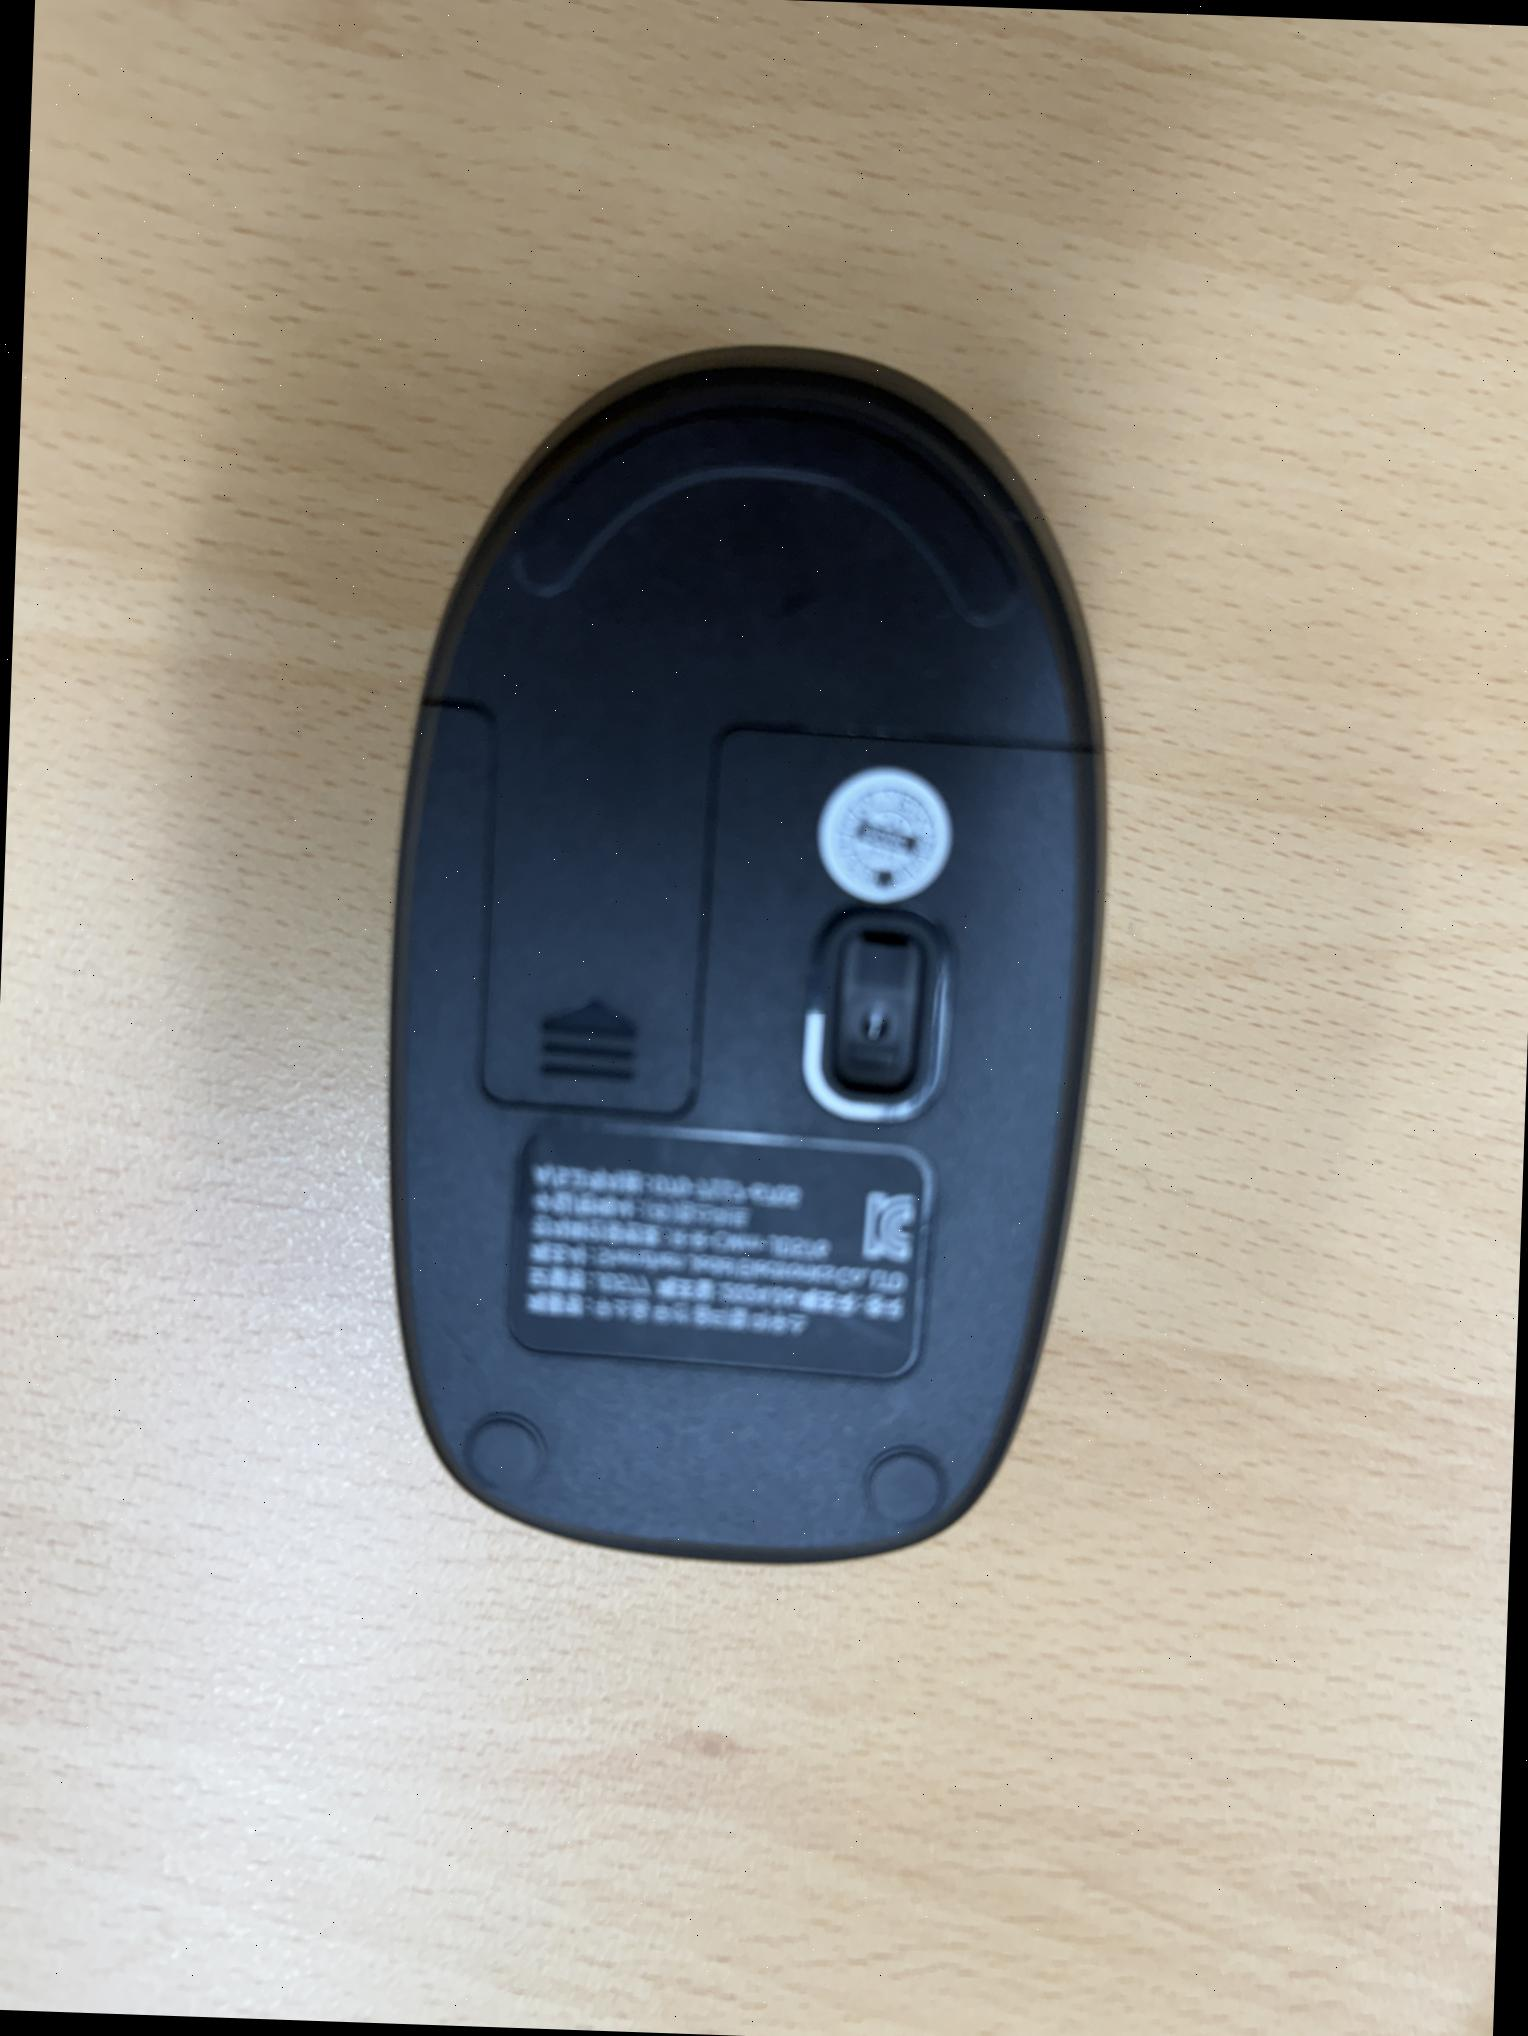back: (358, 327, 1136, 1579)
